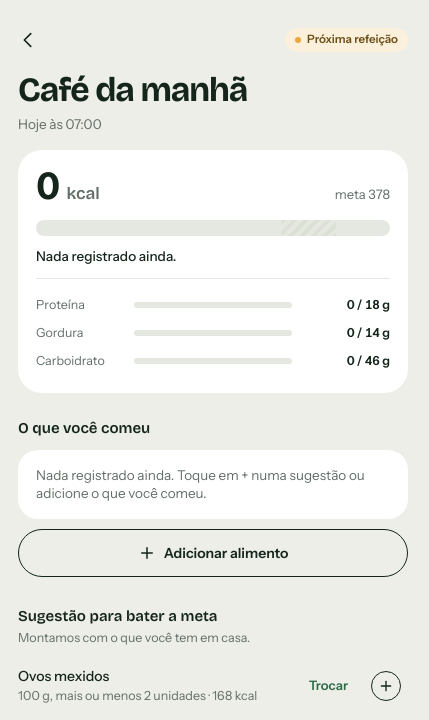
revisão final do 04B › 6: registrar vai para a data carregada; se o dia virou, avisa e recarrega hoje
The image size is (429, 720).
Click the button named "Registrar Ovos mexidos": point(386, 686) [364,664,408,708]
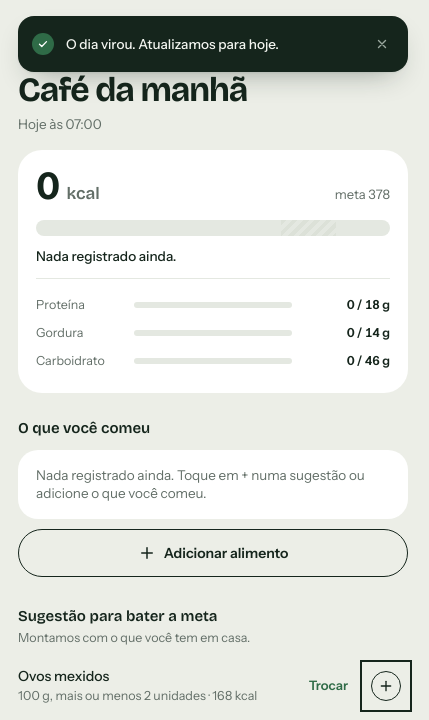
Expected: the text "O dia virou. Atualizamos para hoje." is shown, [66,36,279,52]
